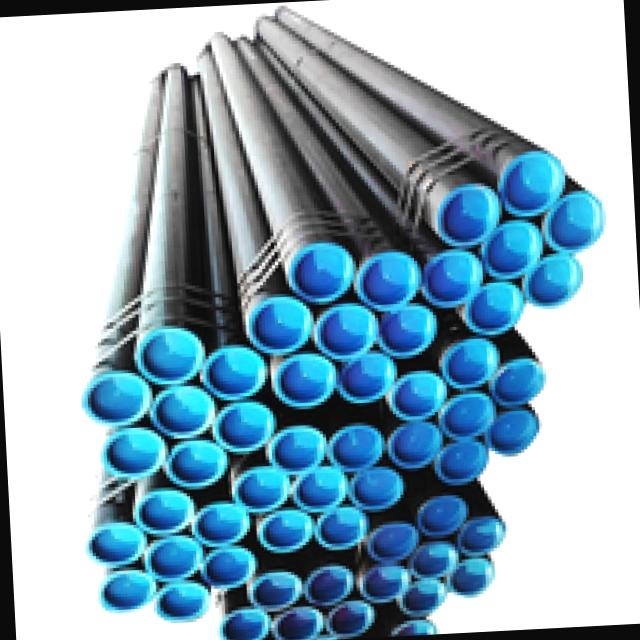gas: (276, 9, 564, 213), (260, 19, 500, 243), (238, 39, 419, 306), (213, 33, 354, 302), (203, 51, 311, 353), (135, 65, 209, 380), (105, 71, 165, 322)
